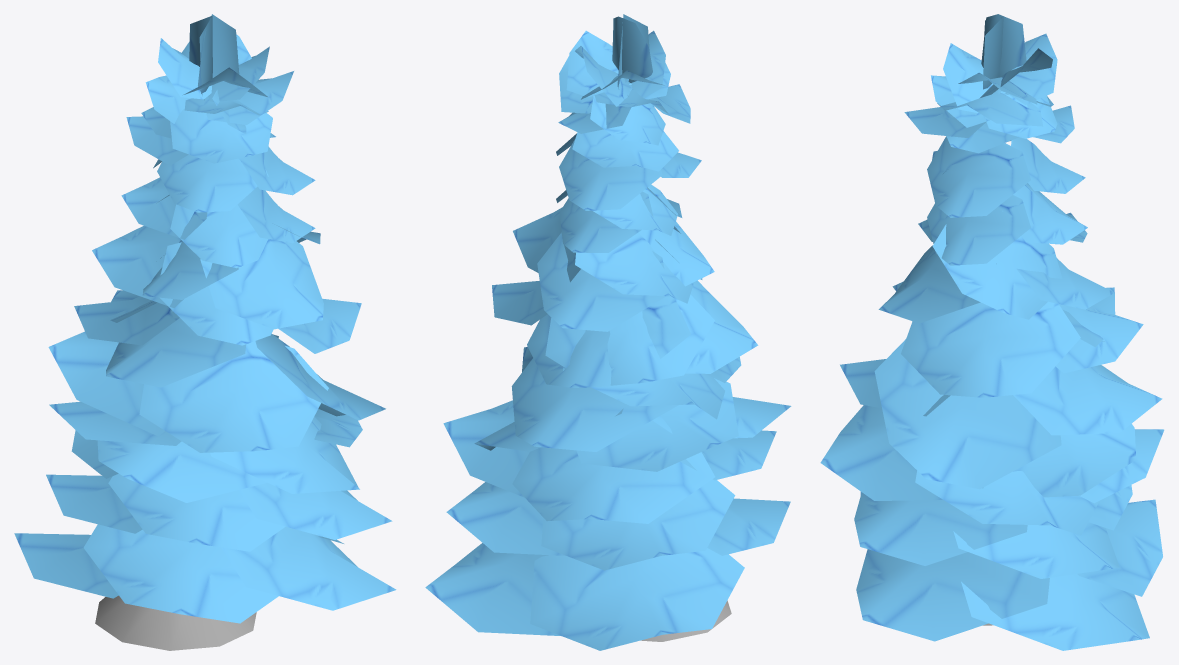
File: Yaro_TallPine_Texture_3.fbx
The picture shows the model from 3 angles, left to right: view 1: azimuth 30°, elevation 25°; view 2: azimuth 150°, elevation 25°; view 3: azimuth 270°, elevation 25°; orthographic projection. The views are drawn at different scales.
Visible parts, largest first — view 1: PineBranches, BaseTree; view 2: PineBranches, BaseTree; view 3: PineBranches.
Boxes of the visible parts, x1,y1,x2,y2 form: PineBranches: (14,14,396,623); BaseTree: (95,595,256,650); PineBranches: (425,14,791,650); BaseTree: (641,600,731,641); PineBranches: (820,14,1164,650).
Bounding box in the file's own units: 124 × 242 × 127.
